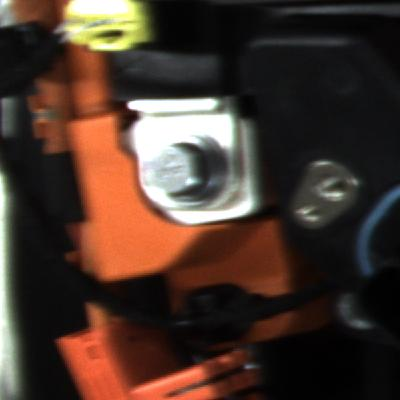nut_b: (142, 129, 247, 206)
